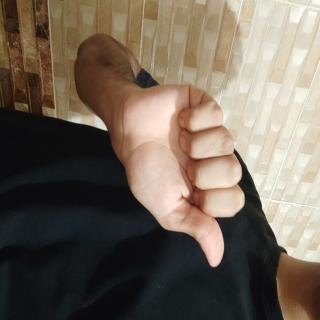DAD: (57, 88, 201, 286)
